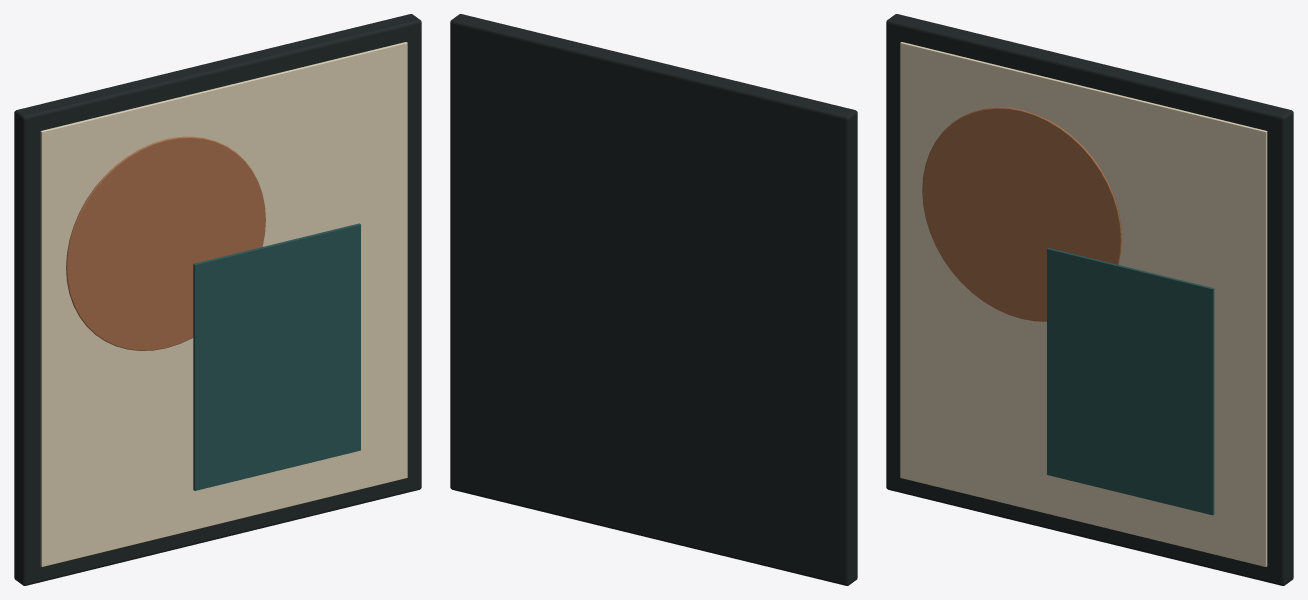
Rendered from modern-bar-art.glb.
3 views of the same model, side by side, from view 1: azimuth 30°, elevation 25°; view 2: azimuth 150°, elevation 25°; view 3: azimuth 330°, elevation 25° (orthographic).
Visible parts, largest first — view 1: modern-bar-art - Modern Bar ivory ceramic runtime PBR, modern-bar-art - Modern Bar petrol leather booth upholstery , modern-bar-art - Modern Bar powder coated charcoal steel run, modern-bar-art - Modern Bar saddle leather upholstery runtim; view 2: modern-bar-art - Modern Bar powder coated charcoal steel run; view 3: modern-bar-art - Modern Bar ivory ceramic runtime PBR, modern-bar-art - Modern Bar petrol leather booth upholstery , modern-bar-art - Modern Bar powder coated charcoal steel run, modern-bar-art - Modern Bar saddle leather upholstery runtim.
Boxes of the visible parts, x1,y1,x2,y2 form: modern-bar-art - Modern Bar ivory ceramic runtime PBR: (40,42,407,566); modern-bar-art - Modern Bar petrol leather booth upholstery : (193,223,360,490); modern-bar-art - Modern Bar powder coated charcoal steel run: (14,14,421,585); modern-bar-art - Modern Bar saddle leather upholstery runtim: (66,136,265,350); modern-bar-art - Modern Bar powder coated charcoal steel run: (450,14,857,585); modern-bar-art - Modern Bar ivory ceramic runtime PBR: (900,42,1267,566); modern-bar-art - Modern Bar petrol leather booth upholstery : (1047,248,1214,515); modern-bar-art - Modern Bar powder coated charcoal steel run: (886,14,1293,585); modern-bar-art - Modern Bar saddle leather upholstery runtim: (922,107,1122,321).
Size of the model in its own units: 1.2 by 1.35 by 0.0795.
